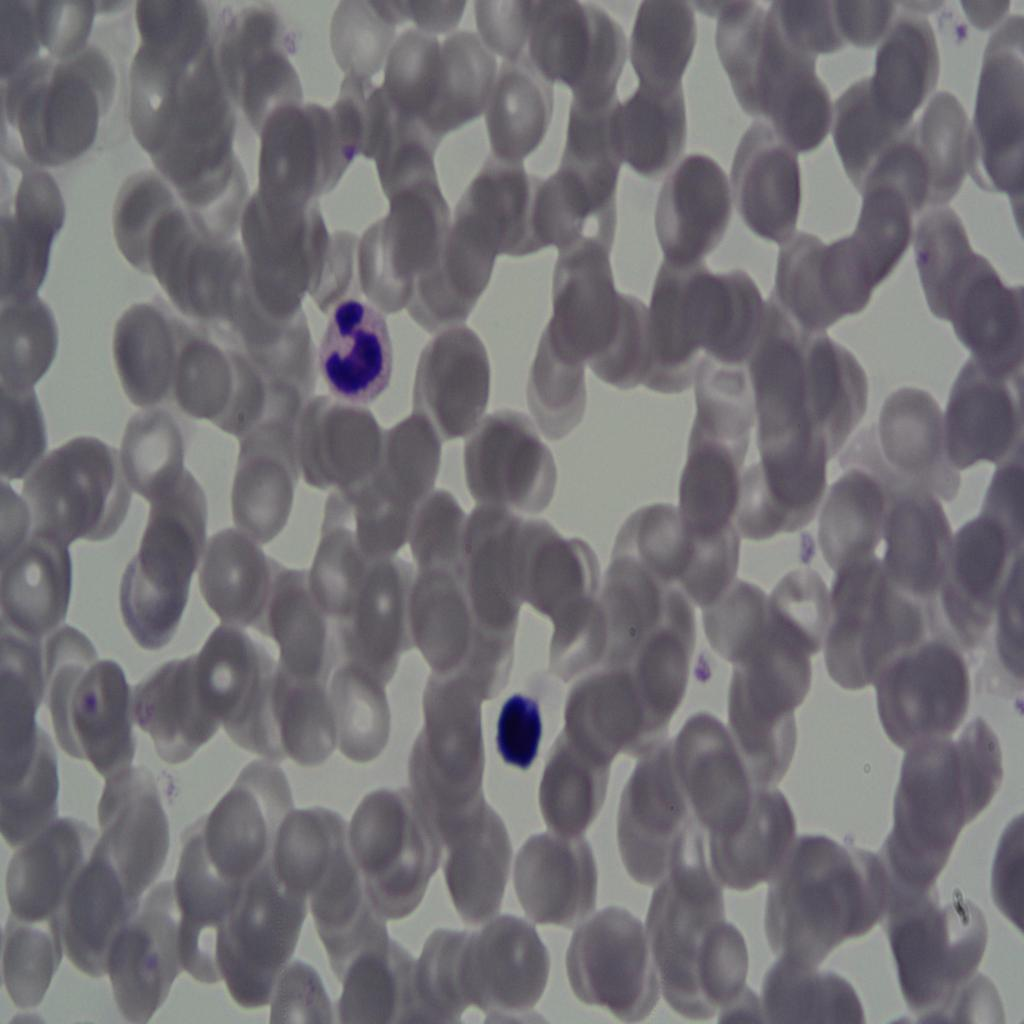Myeoblast: (481, 677, 546, 774)
Neutrofil: (310, 287, 395, 406)
Platelet: (690, 648, 715, 690), (795, 529, 820, 568), (1010, 682, 1024, 732), (338, 137, 360, 167), (80, 682, 100, 714), (909, 241, 930, 270), (954, 16, 970, 48)
